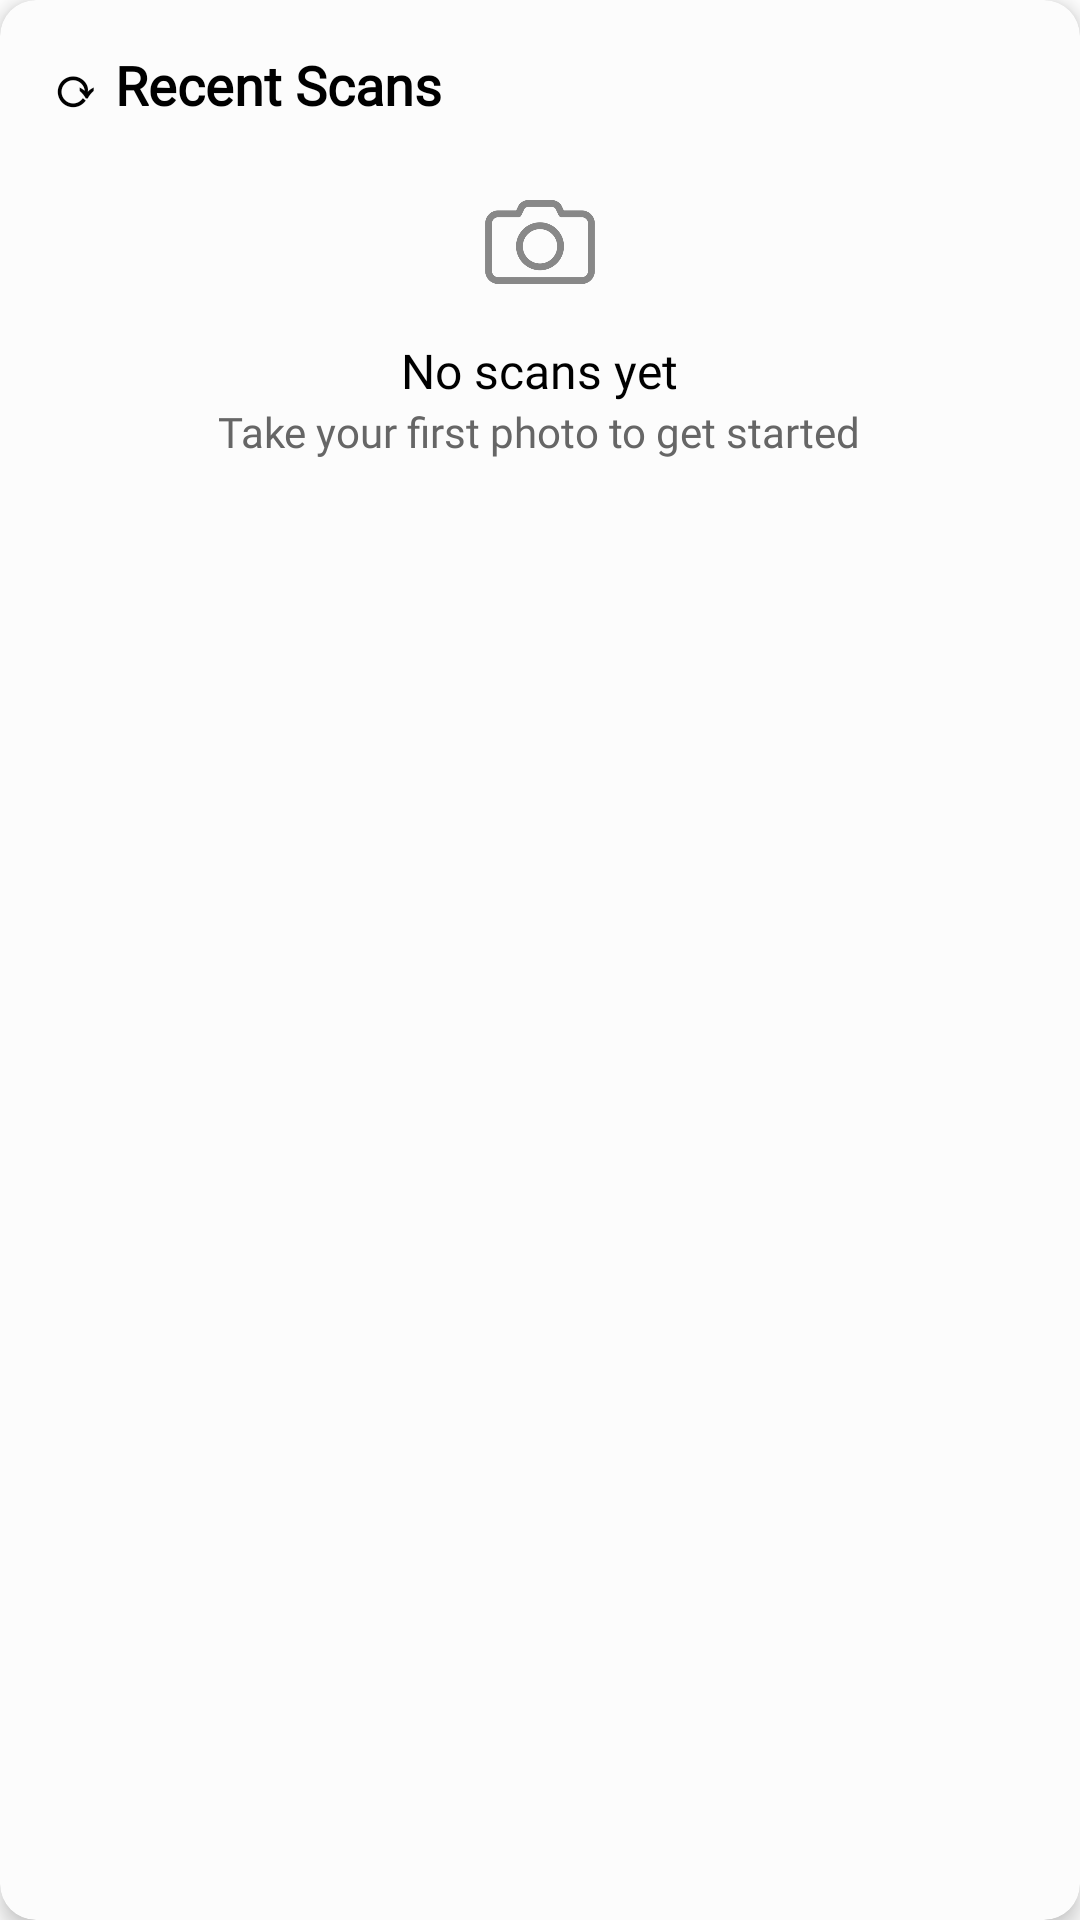

Icons on this 1080×1920 Android screen, each with its box as (x1, y1, x2, y2):
camera: (485, 200, 595, 284)
